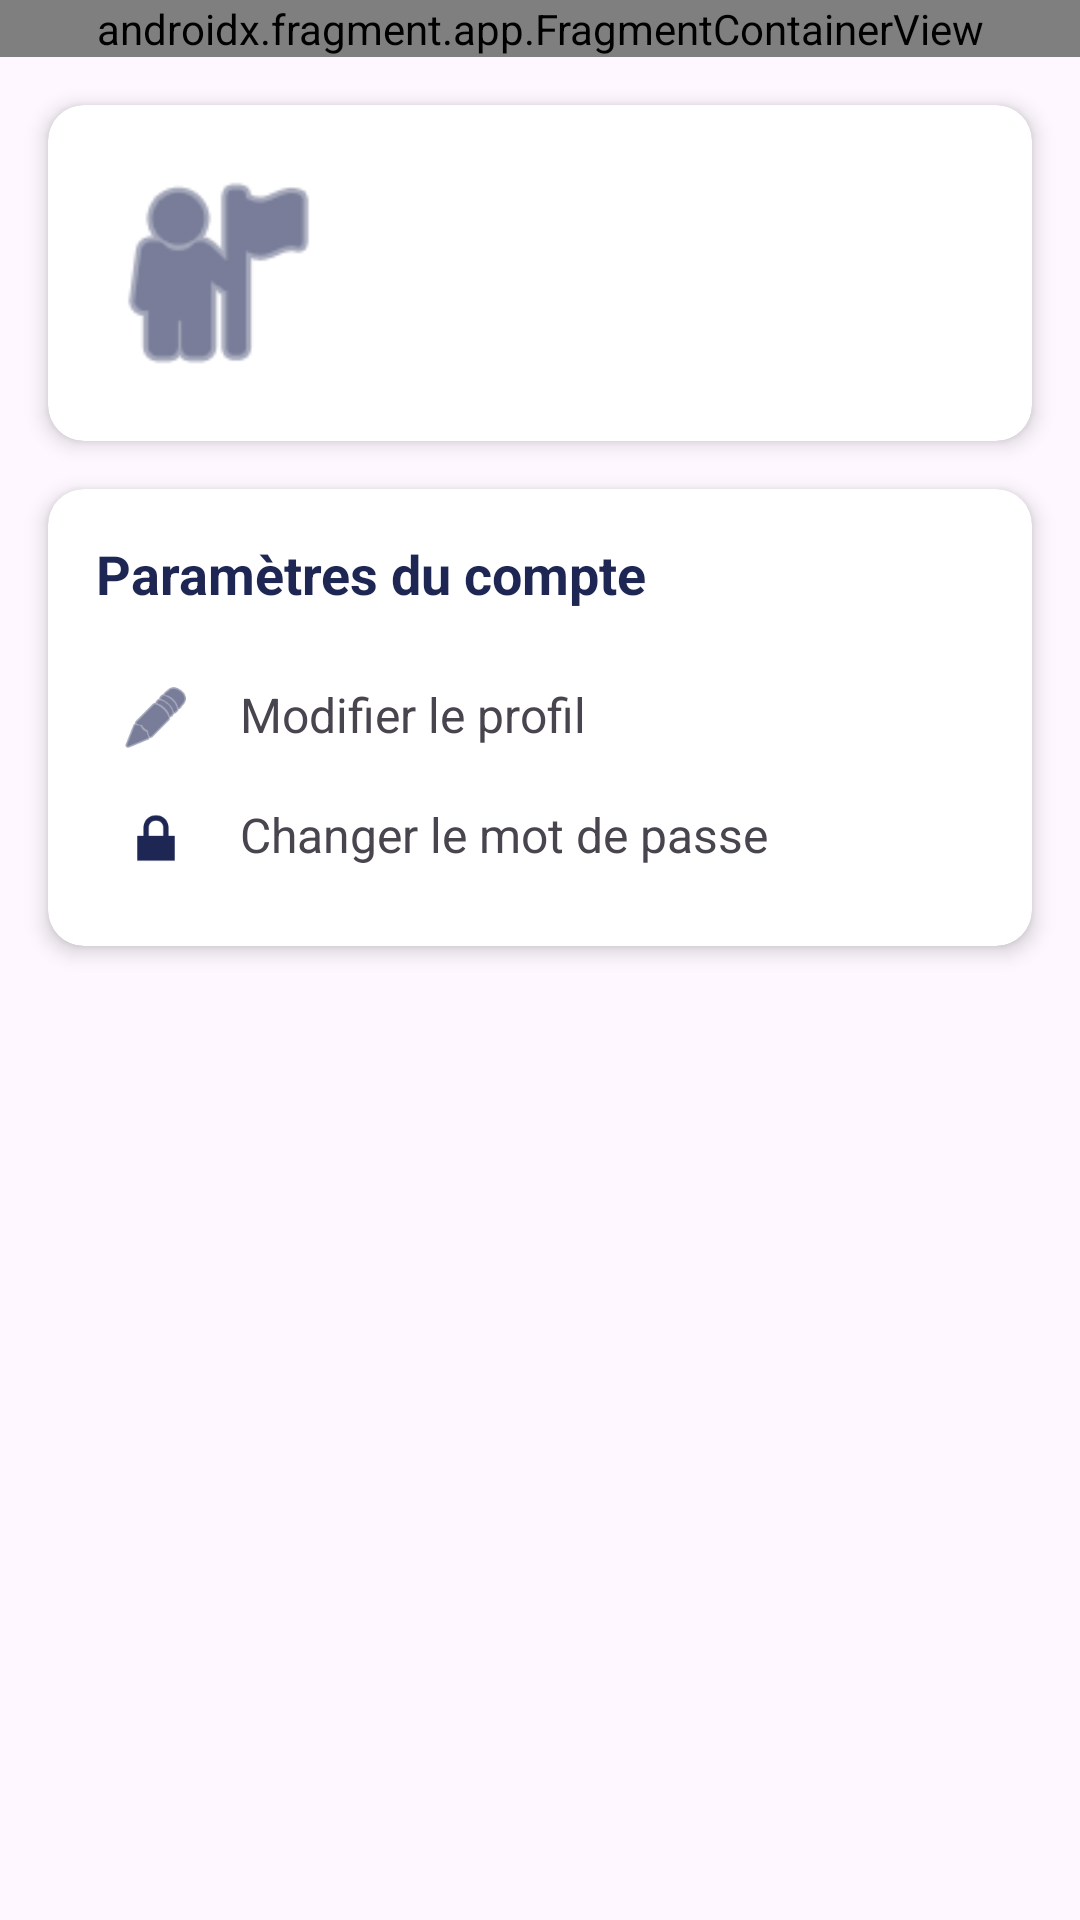

Icons on this 1080*1920 Android screen, each with its box as (x1, y1, x2, y2):
edit: (125, 687, 186, 748)
lock: (137, 815, 175, 861)
myplaces: (128, 183, 309, 363)
